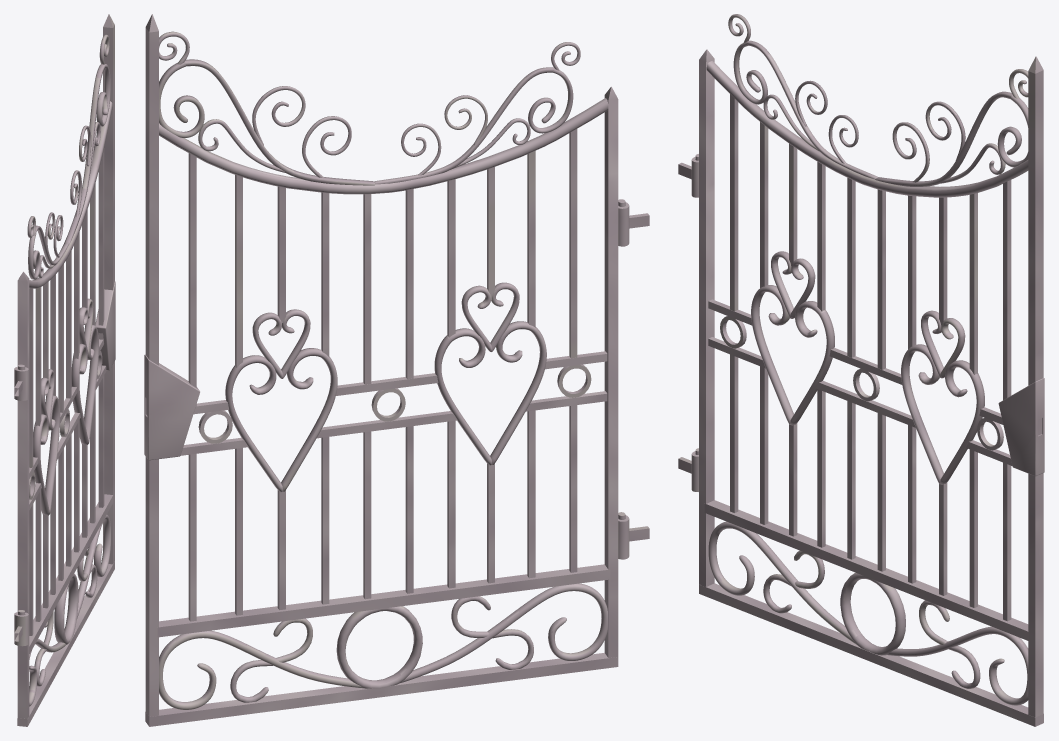
File: puerta2_r.obj
The picture shows the model from 3 angles, left to right: view 1: azimuth 30°, elevation 25°; view 2: azimuth 150°, elevation 25°; view 3: azimuth 270°, elevation 25°; orthographic projection. The views are drawn at different scales.
Parts seen in each view (by area): view 1: puerta2_r; view 2: puerta2_r; view 3: puerta2_r.
Boxes of the visible parts, <box> form: puerta2_r: <box>14,14,115,726</box>; puerta2_r: <box>144,14,649,726</box>; puerta2_r: <box>678,14,1044,726</box>.
Bounding box in the file's own units: 7.16 × 15.3 × 7.62.
